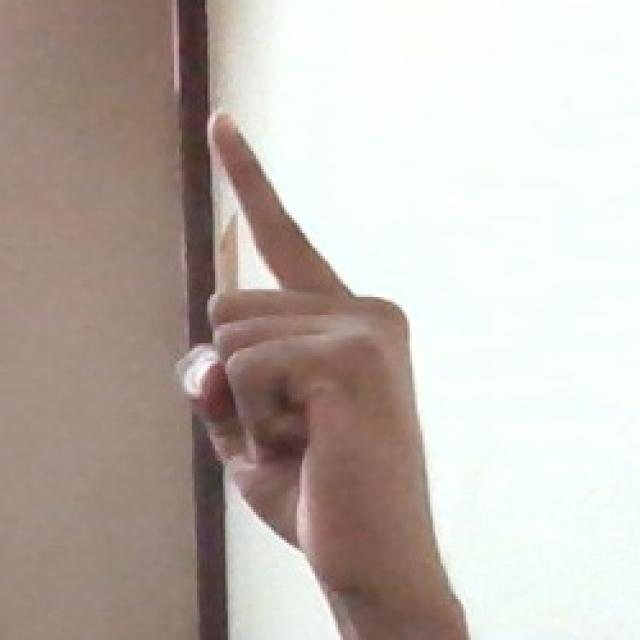Alphabet-I: (147, 102, 436, 602)
